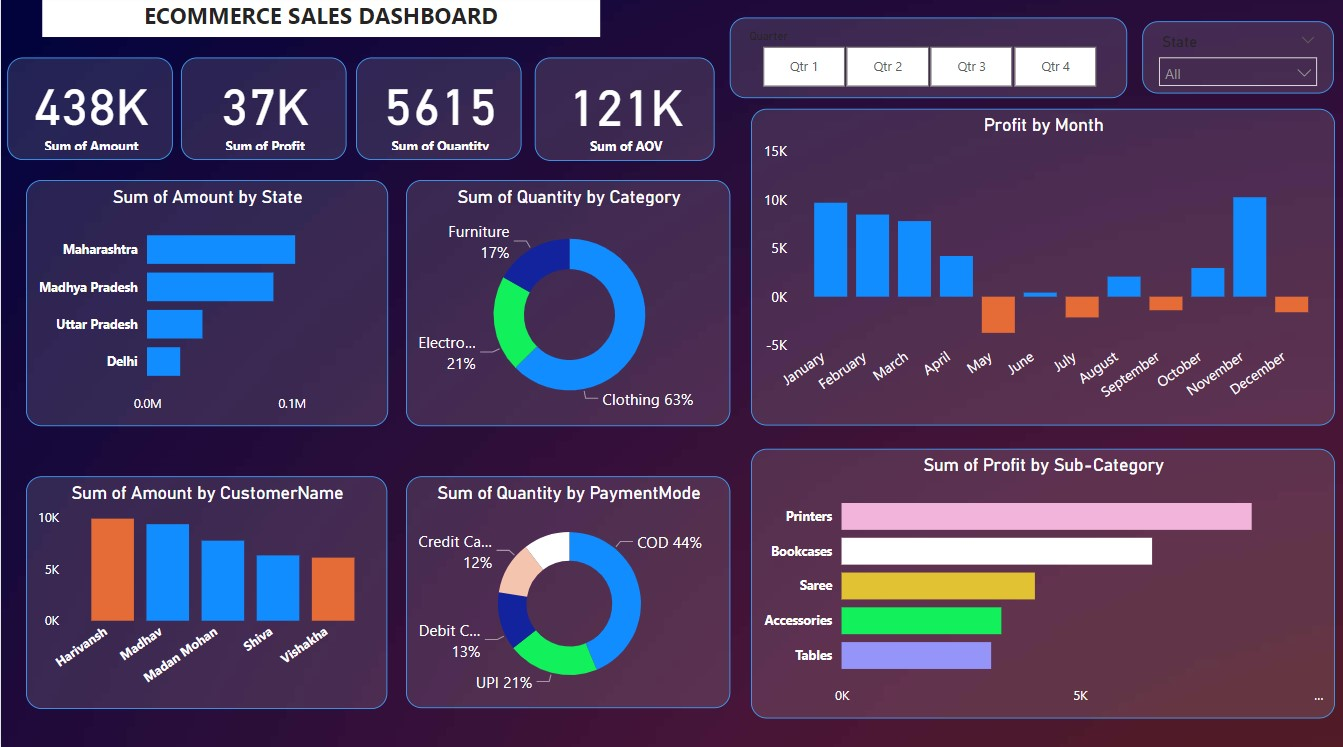

This screenshot's page, from the dashboard's own definition file:
{"tool":"powerbi","page":{"name":"Page 1","canvas":[1280,720],"ordinal":0},"visuals":[{"type":"columnChart","title":" Profit by Month","fields":{"Y":["Sum(Details.Profit)"],"Category":["Orders.Order Date.Variation.Date Hierarchy.Month"]},"box":[713.6,108.4,555.7,301.9],"z":0},{"type":"textbox","box":[39.8,0,531,39.8],"z":1000},{"type":"barChart","fields":{"Category":["Details.Sub-Category"],"Y":["Sum(Details.Profit)"]},"box":[713.6,432.2,555.7,256.6],"z":2000},{"type":"donutChart","fields":{"Category":["Details.Category"],"Y":["Sum(Details.Quantity)"]},"box":[385.6,175.6,308.7,234.6],"z":3000},{"type":"donutChart","fields":{"Y":["Sum(Details.Quantity)"],"Category":["Details.PaymentMode"]},"box":[385.6,458.3,308.7,220.9],"z":4000},{"type":"card","fields":{"Values":["Sum(Details.Amount)"]},"box":[6.2,59,157.8,97.4],"z":5000},{"type":"card","fields":{"Values":["Sum(Details.Profit)"]},"box":[170.9,59,157.8,97.4],"z":6000},{"type":"card","fields":{"Values":["Sum(Details.AOV)"]},"box":[507.7,59,171.5,98.8],"z":7000},{"type":"card","fields":{"Values":["Sum(Details.Quantity)"]},"box":[338.3,59,157.8,97.4],"z":8000},{"type":"barChart","fields":{"Category":["Orders.State"],"Y":["Sum(Details.Amount)"]},"box":[23.3,175.6,344.4,234.6],"z":9000},{"type":"columnChart","fields":{"Category":["Orders.CustomerName"],"Y":["Sum(Details.Amount)"]},"box":[23.8,458.2,343.9,221.4],"z":10000},{"type":"slicer","fields":{"Values":["Orders.Order Date.Variation.Date Hierarchy.Quarter"]},"box":[694.3,22,378.7,76.8],"z":11000},{"type":"slicer","fields":{"Values":["Orders.State"]},"box":[1086.8,24.7,182.5,68.6],"z":12000}]}

Visuals, with their boxes in screenshot pixels (x1, y1, x2, y2), scaled from the page's 1280x720 canvas onto the 1343x747 screenshot:
" Profit by Month" columnChart: bbox=(749, 112, 1332, 426)
textbox: bbox=(42, 0, 599, 41)
barChart - Details.Sub-Category x Sum(Details.Profit): bbox=(749, 448, 1332, 715)
donutChart - Details.Category x Sum(Details.Quantity): bbox=(405, 182, 728, 426)
donutChart - Sum(Details.Quantity) x Details.PaymentMode: bbox=(405, 475, 728, 705)
card - Sum(Details.Amount): bbox=(7, 61, 172, 162)
card - Sum(Details.Profit): bbox=(179, 61, 345, 162)
card - Sum(Details.AOV): bbox=(533, 61, 713, 164)
card - Sum(Details.Quantity): bbox=(355, 61, 521, 162)
barChart - Orders.State x Sum(Details.Amount): bbox=(24, 182, 386, 426)
columnChart - Orders.CustomerName x Sum(Details.Amount): bbox=(25, 475, 386, 705)
slicer - Orders.Order Date.Variation.Date Hierarchy.Quarter: bbox=(728, 23, 1126, 103)
slicer - Orders.State: bbox=(1140, 26, 1332, 97)
